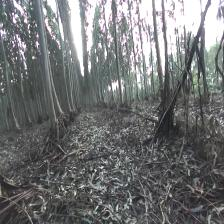trunk: (36, 20, 64, 127), (112, 23, 125, 105), (153, 16, 166, 90)
